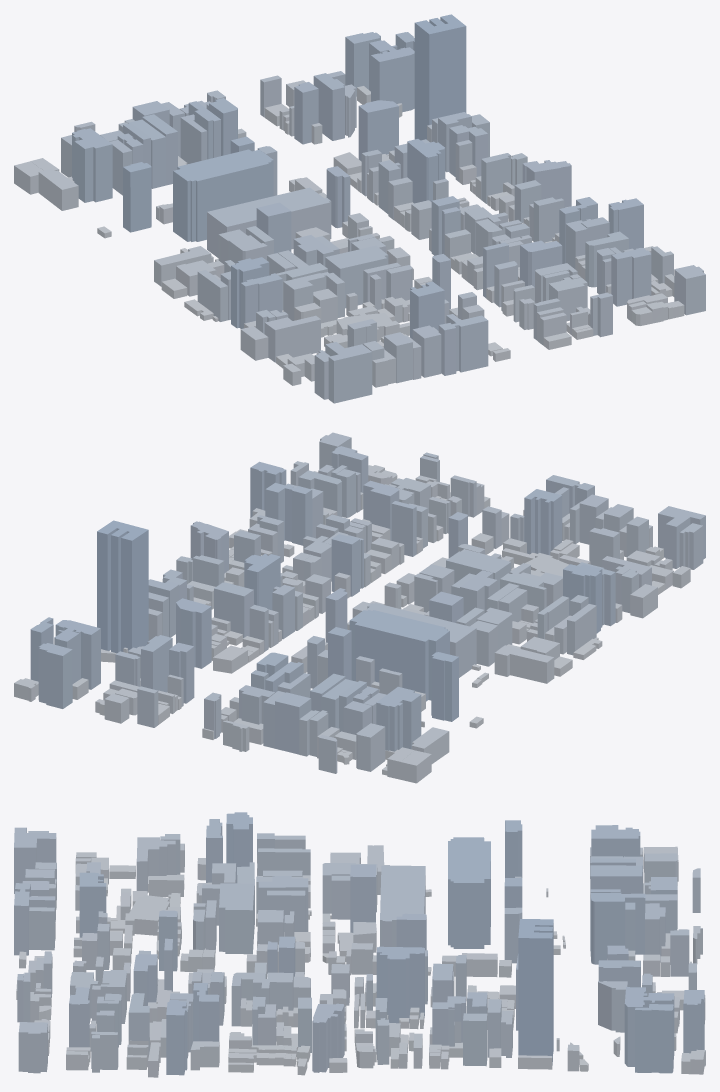
3 views of the same model, one above another, from view 1: azimuth 30°, elevation 25°; view 2: azimuth 150°, elevation 25°; view 3: azimuth 270°, elevation 25° (orthographic). The views are drawn at different scales.
Bounding box in the file's own units: 367 × 104 × 507.
